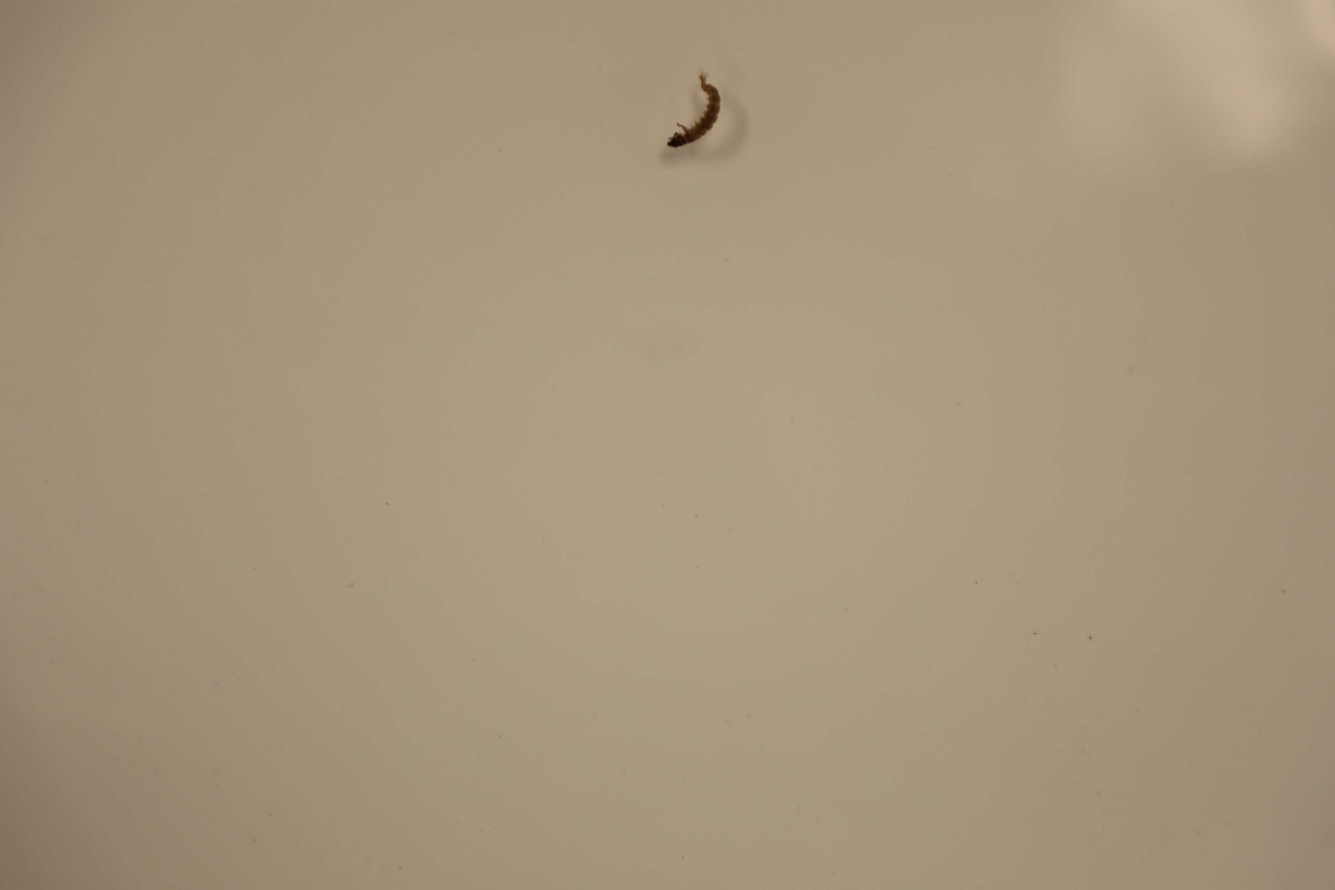Cadisfly: (662, 69, 722, 155)
